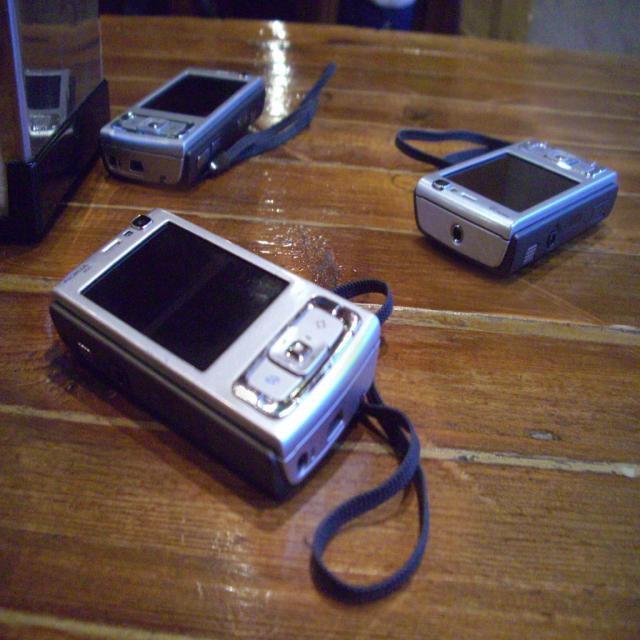Mobile-phone: (50, 202, 396, 491)
